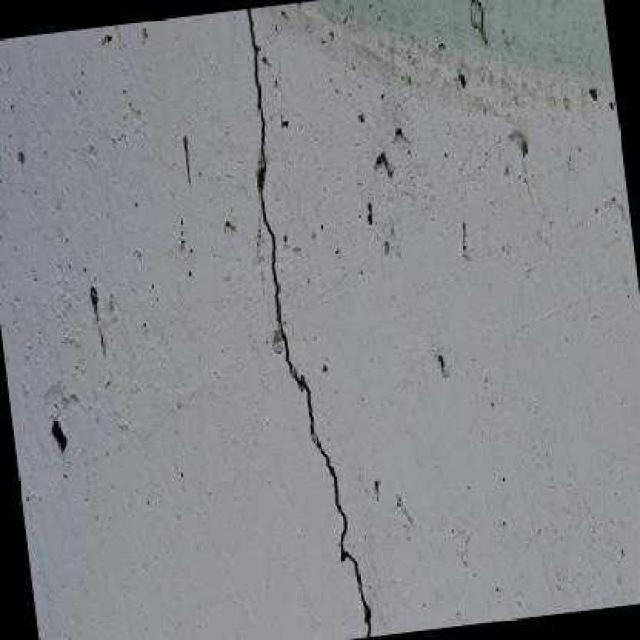D00: (244, 6, 371, 637), (254, 206, 263, 297)
